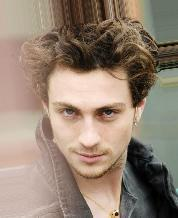face: (57, 102, 122, 166)
